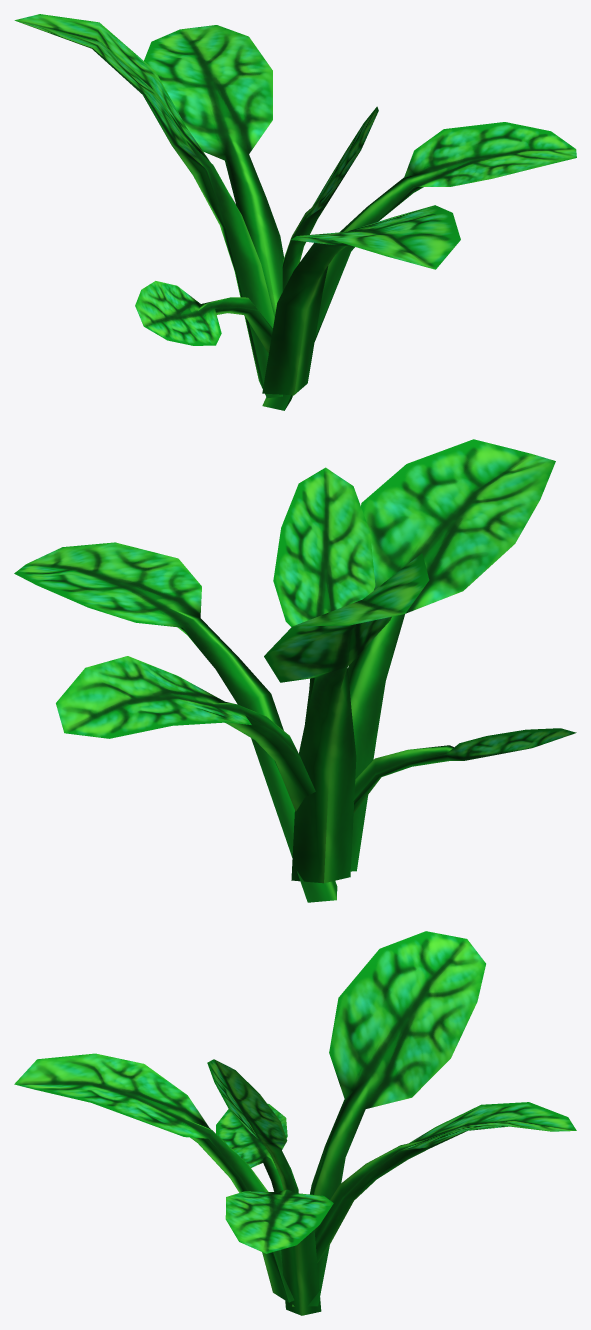
Rendered from crop_spinach_young.fbx.
3 views of the same model, one above another, from view 1: azimuth 30°, elevation 25°; view 2: azimuth 150°, elevation 25°; view 3: azimuth 270°, elevation 25° (orthographic). The views are drawn at different scales.
Parts seen in each view (by area): view 1: young2; view 2: young2; view 3: young2.
Boxes of the visible parts, x1=… form: young2: x1=14, y1=14, x2=576, y2=410; young2: x1=14, y1=439, x2=576, y2=902; young2: x1=14, y1=931, x2=576, y2=1315.
Bounding box in the file's own units: 0.8613 × 0.661 × 1.08.
1 material, 1 textured.
